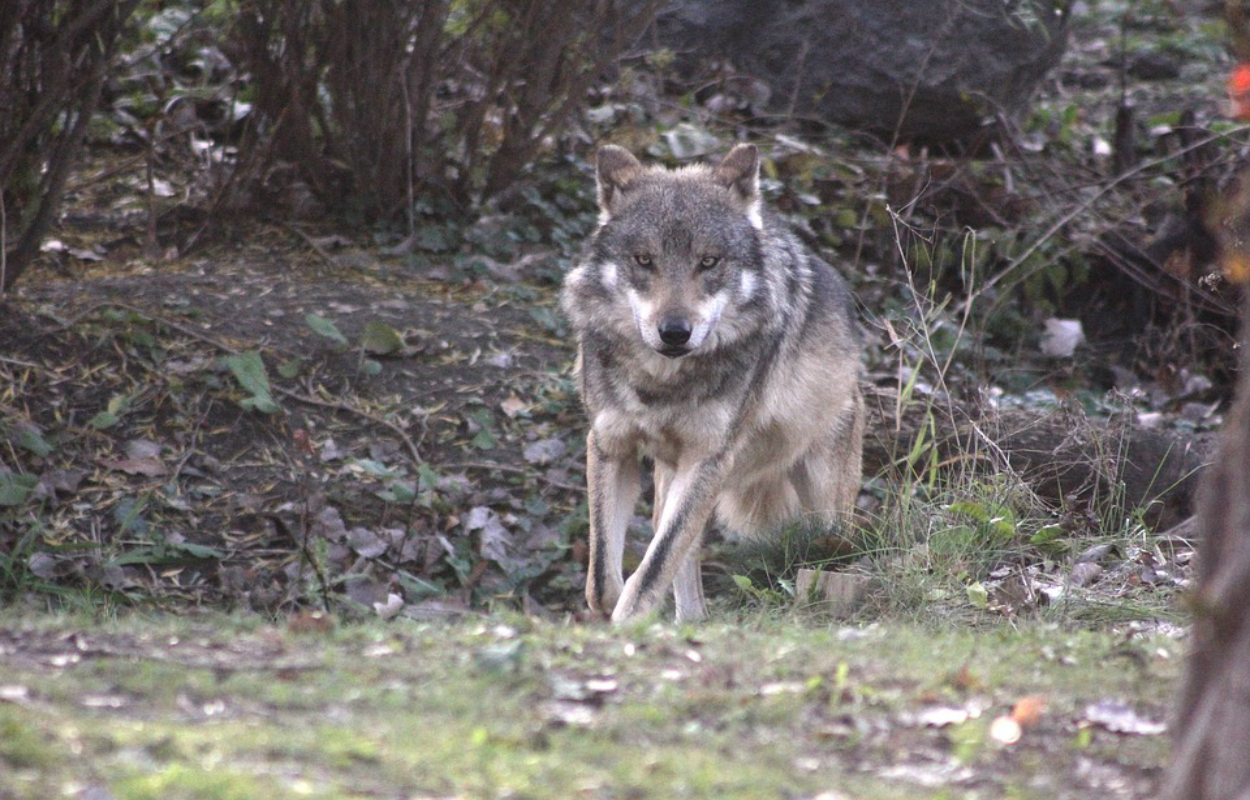Lobo: (515, 125, 896, 648)
